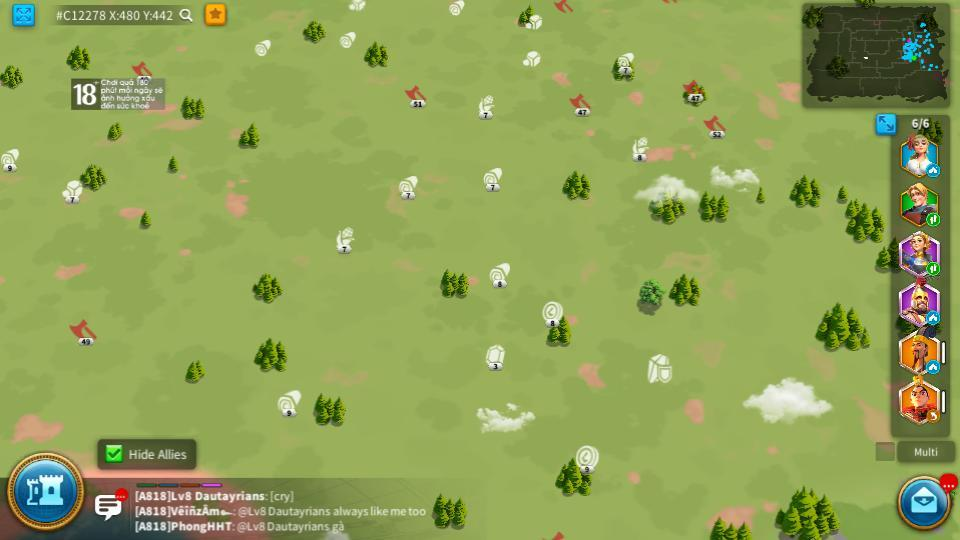gem-z-out: (484, 345, 507, 368)
march_idle: (927, 312, 940, 324), (926, 166, 941, 176), (927, 362, 940, 373)
march_marching: (925, 263, 938, 275), (927, 215, 940, 226)
march_returning: (926, 411, 940, 422)
